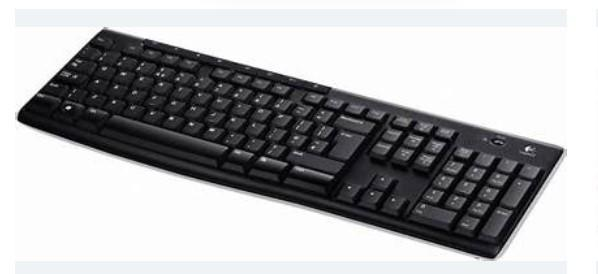Keyboard: (15, 28, 564, 260)
